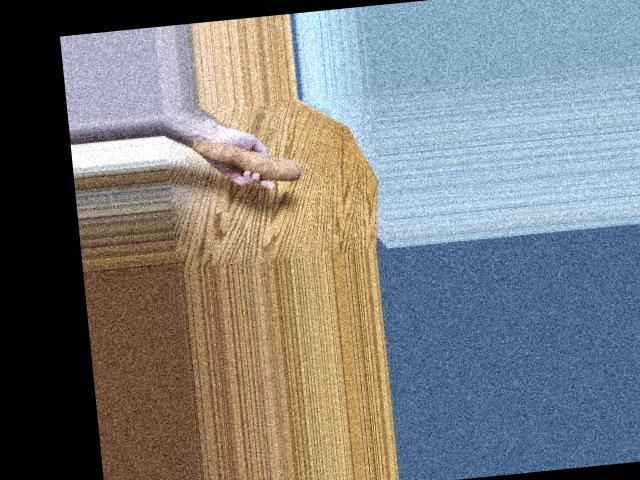sweet_potato: (191, 128, 298, 183)
